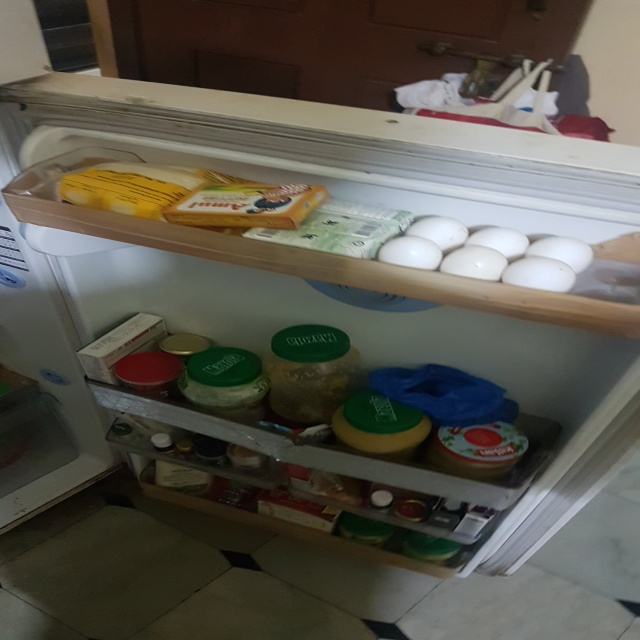butter: (161, 179, 335, 228)
eggs: (505, 252, 577, 306), (440, 246, 509, 289), (374, 235, 444, 276), (532, 232, 597, 274), (465, 225, 532, 259), (407, 214, 471, 248)
